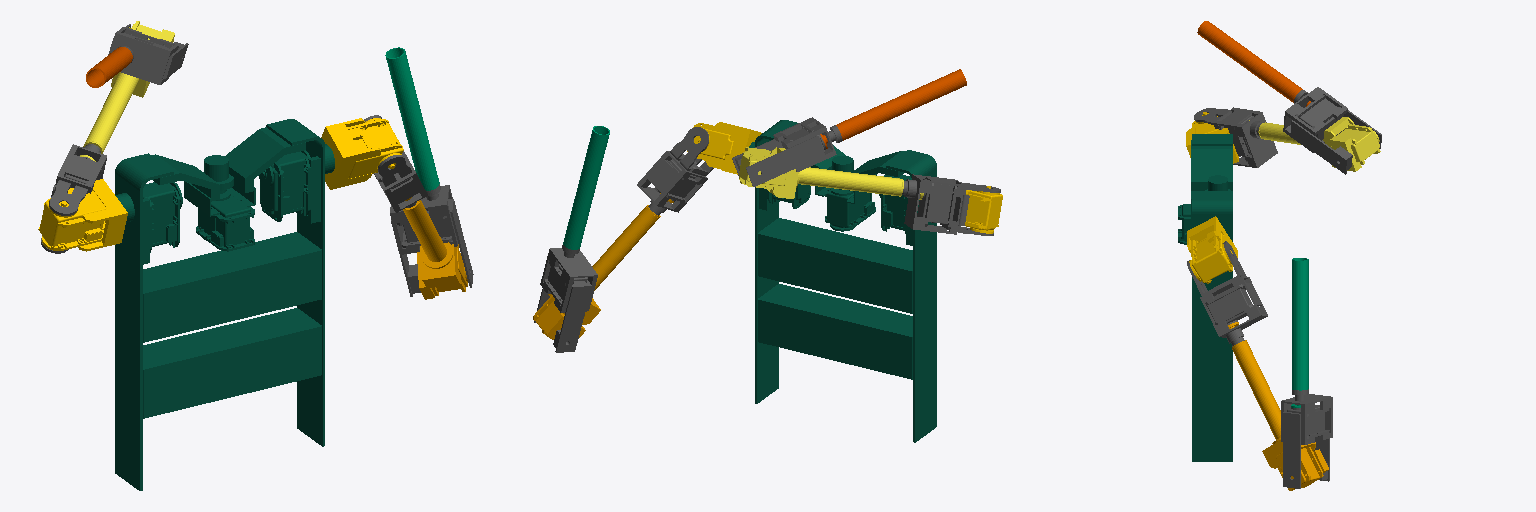
The robot description file, URDF, robot "myrobot":
<?xml version="1.0"?>
<robot name="myrobot">

  <material name="darkGray">
    <color rgba="0.063 0.37 0.3 1" />
  </material>

  <material name="yellow">
    <color rgba="1 0.8 0 1" />
  </material>

  <material name="gray">
    <color rgba="0.4 0.4 0.4 1" />
  </material>

  <link name="neck_link">
    <visual>
      <geometry>
        <mesh filename="package://workshop/meshes/neck_base.stl" />
      </geometry>
      <origin rpy="0 0 0" xyz="0 0 0" />
      <material name="darkGray" />
    </visual>
  </link>


  <link name="shoulder_left_1">
    <visual>
      <geometry>
        <mesh filename="package://workshop/meshes/left_shoulder.stl" />
      </geometry>
      <origin rpy="0 -1.570796327 0" xyz="0 0 0" />
      <material name="yellow" />
    </visual>
  </link>

  <link name="shoulder_left_2">
    <visual>
      <geometry>
        <mesh filename="package://workshop/meshes/left_shoulder_2.stl" />
      </geometry>
      <origin rpy="-3.141592653589793 0 -3.141592653589793" xyz="0 0 0" />
      <material name="gray" />
    </visual>
  </link>


  <link name="upper_arm_left">
    <visual>
      <geometry>
        <mesh filename="package://workshop/meshes/upper_arm_left.stl" />
      </geometry>
      <origin rpy="0 1.570796327 0" xyz="0 0 0" />
    </visual>
  </link>


  <link name="mid_arm_left">
    <visual>
      <geometry>
        <mesh filename="package://workshop/meshes/mid_arm.stl" />
      </geometry>
      <origin rpy="0 0 -1.570796327" xyz="0 0 0" />
      <material name="gray" />
    </visual>
  </link>


  <link name="lower_arm_left">
    <visual>
      <geometry>
        <mesh filename="package://workshop/meshes/lower_arm.stl" />
      </geometry>
      <origin rpy="0 0 -1.570796327" xyz="0 0 0" />
    </visual>
  </link>

  <!--############## Right arm links ####################-->

  <link name="shoulder_right_1">
    <visual>
      <geometry>
        <mesh filename="package://workshop/meshes/right_shoulder.stl" />
      </geometry>
      <origin rpy="0 -1.570796327 0" xyz="0 0 0" />
      <material name="yellow" />
    </visual>
  </link>


  <link name="shoulder_right_2">
    <visual>
      <geometry>
        <mesh filename="package://workshop/meshes/right_shoulder_2.stl" />
      </geometry>
      <origin rpy="-3.141592653589793 0 -3.141592653589793" xyz="0 0 0" />
      <material name="gray" />
    </visual>
  </link>


  <link name="upper_arm_right">
    <visual>
      <geometry>
        <mesh filename="package://workshop/meshes/upper_arm_right.stl" />
      </geometry>
      <origin rpy="0 0 -1.570796327" xyz="0 0 0" />
    </visual>
  </link>


  <link name="mid_arm_right">
    <visual>
      <geometry>
        <mesh filename="package://workshop/meshes/mid_arm.stl" />
      </geometry>
      <origin rpy="0 1.570796327 0" xyz="0 0 0" />
      <material name="gray" />
    </visual>
  </link>


  <link name="lower_arm_right">
    <visual>
      <geometry>
        <mesh filename="package://workshop/meshes/lower_arm.stl" />
      </geometry>
      <origin rpy="0 0 0" xyz="0 0 0" />
    </visual>
  </link>

  <!--#################### Joints #######################-->


  <joint name="neck_base_shoulder_left" type="revolute">
    <axis xyz="-1 0 0" />
    <limit effort="1000.0" lower="-3.141592653589793" upper="3.141592653589793" velocity="4.0" />
    <origin rpy="3.473205 0 0" xyz="-0.121775 -0.007 -0.0235" />
    <parent link="neck_link" />
    <child link="shoulder_left_1" />
  </joint>

  <joint name="shoulder_shoulder_left" type="revolute">
    <axis xyz="0 0 -1" />
    <limit effort="1000.0" lower="-10.141592653589793" upper="10.141592653589793" velocity="4.0" />
    <origin rpy="0 0 2.373647" xyz="-0.0595 0 0" />
    <parent link="shoulder_left_1" />
    <child link="shoulder_left_2" />
  </joint>


  <joint name="shoulder_upperArm_left" type="revolute">
    <axis xyz="-1 0 0" />
    <limit effort="1000.0" lower="-3.141592653589793" upper="3.141592653589793" velocity="4.0" />
    <origin rpy="3.141592653589793 0 0" xyz="-0.0775 0 -0.0145" />
    <parent link="shoulder_left_2" />
    <child link="upper_arm_left" />
  </joint>

  <joint name="upperArm_midArm_left" type="revolute">
    <axis xyz="0 -1 0" />
    <limit effort="1000.0" lower="-10.141592653589793" upper="0.141592653589793" velocity="4.0" />
    <origin rpy="0 2.6 0" xyz="-0.1985 -0.02025 0" />
    <parent link="upper_arm_left" />
    <child link="mid_arm_left" />
  </joint>

  <joint name="midArm_lowerArm_left" type="revolute">
    <axis xyz="1 0 0" />
    <limit effort="1000.0" lower="-3.141592653589793" upper="3.141592653589793" velocity="4.0" />
    <origin rpy="0 0 0" xyz="-0.083 0.0155 0" />
    <parent link="mid_arm_left" />
    <child link="lower_arm_left" />
  </joint>

  <joint name="neck_base_shoulder_right" type="revolute">
    <axis xyz="1 0 0" />
    <limit effort="1000.0" lower="-3.141592653589793" upper="3.141592653589793" velocity="4.0" />
    <origin rpy="-1.047197551 0 0" xyz="0.121775 -0.007 -0.0235" />
    <parent link="neck_link" />
    <child link="shoulder_right_1" />
  </joint>

  <joint name="shoulder_shoulder_right" type="revolute">
    <axis xyz="0 0 -1" />
    <limit effort="1000.0" lower="-10.141592653589793" upper="10.141592653589793" velocity="4.0" />
    <origin rpy="0 0 -2.094395102" xyz="0.0595 0 0" />
    <parent link="shoulder_right_1" />
    <child link="shoulder_right_2" />
  </joint>

  <joint name="shoulder_upperArm_right" type="revolute">
    <axis xyz="-1 0 0" />
    <limit effort="1000.0" lower="-3.141592653589793" upper="3.141592653589793" velocity="4.0" />
    <origin rpy="1.170796327 0 0" xyz="-0.0775 0 -0.0145" />
    <parent link="shoulder_right_2" />
    <child link="upper_arm_right" />
  </joint>

  <joint name="upperArm_midArm_right" type="revolute">
    <axis xyz="0 0 1" />
    <limit effort="1000.0" lower="-3.141592653589793" upper="3.141592653589793" velocity="4.0" />
    <origin rpy="0 0 2.125" xyz="-0.1985 0 -0.02025" />
    <parent link="upper_arm_right" />
    <child link="mid_arm_right" />
  </joint>

  <joint name="midArm_lowerArm_right" type="revolute">
    <axis xyz="0 1 0" />
    <limit effort="1000.0" lower="-3.141592653589793" upper="3.141592653589793" velocity="4.0" />
    <origin rpy="0 0 0" xyz="0 -0.083 0.0155" />
    <parent link="mid_arm_right" />
    <child link="lower_arm_right" />
  </joint>

</robot>

--- Facts derived from the render (not from the file) ---
3 views of the same robot in one strip: view 1: azimuth 30°, elevation 25°; view 2: azimuth 150°, elevation 25°; view 3: azimuth 270°, elevation 25° (orthographic).
Model myrobot with 11 links and 10 joints (10 revolute), rooted at neck_link, posed every joint at zero.
Links seen in each view (by area): view 1: neck_link, shoulder_left_1, shoulder_right_1, upper_arm_right, mid_arm_right, lower_arm_right, mid_arm_left, shoulder_left_2, upper_arm_left, shoulder_right_2, lower_arm_left; view 2: neck_link, mid_arm_right, shoulder_right_2, shoulder_left_2, mid_arm_left, upper_arm_left, upper_arm_right, lower_arm_left, lower_arm_right, shoulder_right_1, shoulder_left_1; view 3: neck_link, mid_arm_right, mid_arm_left, shoulder_right_2, upper_arm_right, shoulder_left_2, lower_arm_right, upper_arm_left, shoulder_right_1, lower_arm_left, shoulder_left_1.
Boxes of the visible links, x1,y1,x2,y2 form: neck_link: (115, 119, 334, 490); shoulder_left_1: (38, 179, 127, 251); shoulder_right_1: (321, 118, 403, 189); upper_arm_right: (403, 197, 467, 299); mid_arm_right: (390, 184, 473, 296); lower_arm_right: (385, 47, 439, 190); mid_arm_left: (108, 24, 188, 84); shoulder_left_2: (41, 144, 106, 253); upper_arm_left: (80, 21, 174, 161); shoulder_right_2: (364, 115, 427, 212); lower_arm_left: (86, 47, 132, 87); neck_link: (749, 120, 936, 442); mid_arm_right: (534, 245, 597, 352); shoulder_right_2: (637, 127, 713, 215); shoulder_left_2: (902, 174, 1000, 235); mid_arm_left: (732, 117, 842, 186); upper_arm_left: (739, 147, 923, 199); upper_arm_right: (533, 193, 673, 339); lower_arm_left: (820, 69, 966, 148); lower_arm_right: (563, 126, 609, 249); shoulder_right_1: (687, 122, 761, 174); shoulder_left_1: (965, 186, 1002, 233); neck_link: (1178, 134, 1232, 461); mid_arm_right: (1281, 389, 1332, 488); mid_arm_left: (1283, 87, 1381, 174); shoulder_right_2: (1187, 241, 1267, 346); upper_arm_right: (1228, 322, 1328, 490); shoulder_left_2: (1194, 107, 1277, 167); lower_arm_right: (1291, 258, 1308, 407); upper_arm_left: (1249, 117, 1380, 171); shoulder_right_1: (1187, 216, 1237, 283); lower_arm_left: (1197, 21, 1310, 106); shoulder_left_1: (1186, 112, 1238, 163).
Bounding box of the posed robot: 0.5426 × 0.2427 × 0.4605 m (x, y, z).
11 mesh visuals loaded from 9 distinct referenced files (9 binary STL).